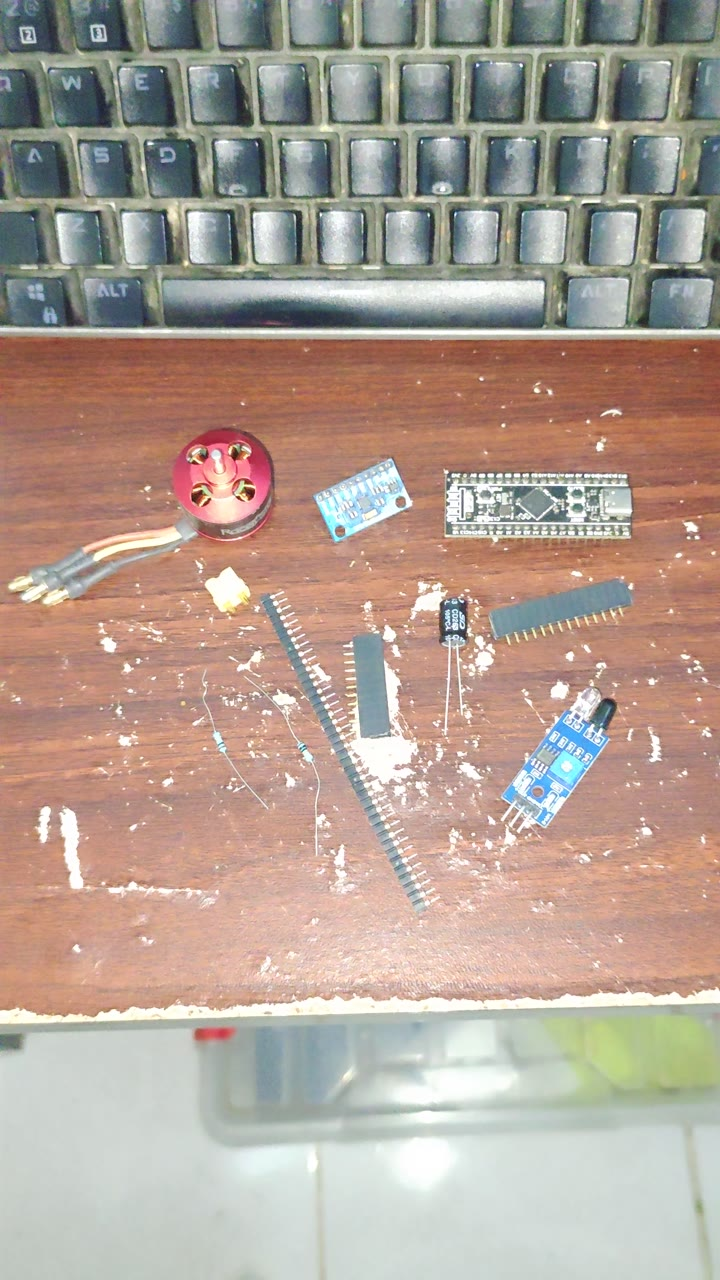bldc_motor: (130, 397, 278, 528)
elco_capacitor: (438, 596, 468, 652)
ir_sensor: (496, 680, 619, 836)
mpu6500: (311, 454, 415, 538)
pin_header: (255, 578, 464, 906), (489, 543, 642, 646), (341, 597, 419, 721)
resistor: (261, 669, 353, 822), (183, 668, 273, 792)
stm32f4: (438, 469, 639, 534)
xt30_female: (203, 565, 251, 614)
